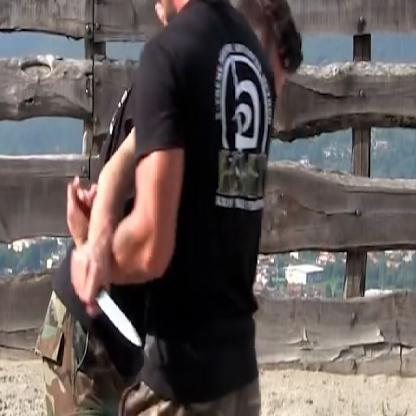knife: (66, 235, 144, 350)
